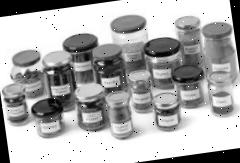glass: (107, 10, 154, 72), (199, 18, 240, 87), (40, 48, 79, 116), (143, 34, 187, 94), (60, 30, 104, 87), (91, 41, 132, 101), (6, 48, 48, 100), (100, 86, 137, 143), (72, 80, 110, 132), (172, 14, 207, 70), (27, 95, 68, 140), (171, 60, 207, 111), (205, 66, 238, 117), (126, 66, 156, 117), (151, 88, 184, 132), (0, 80, 30, 128)
